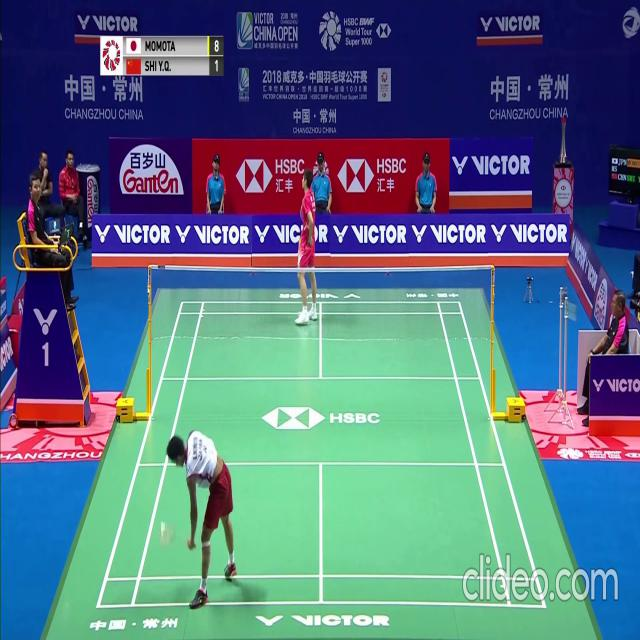Shuttlecock: (163, 521, 167, 528)
